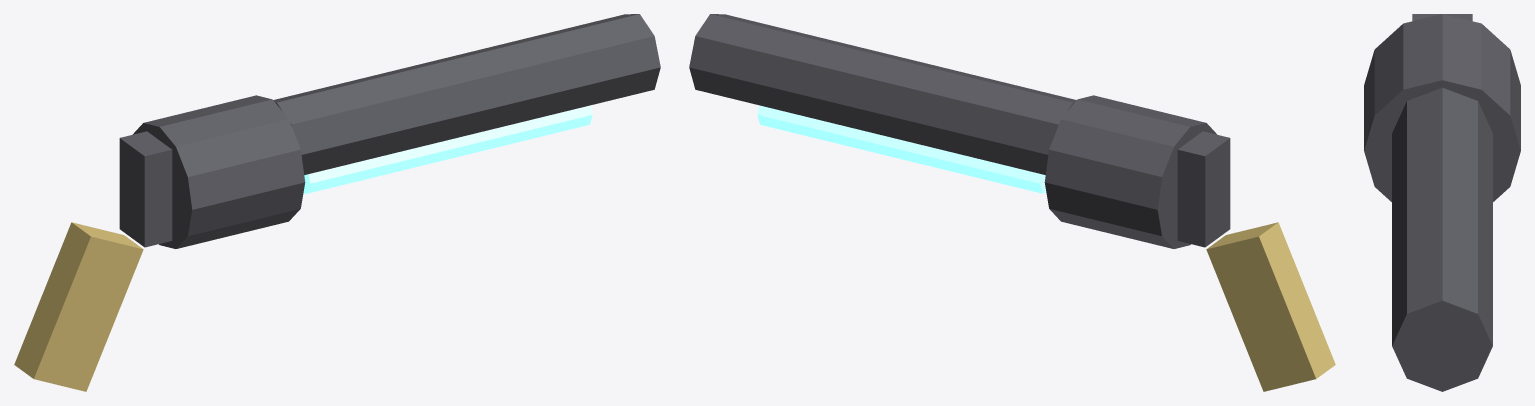
The model's file is AetherRevolver.glb.
The picture shows the model from 3 angles, left to right: view 1: azimuth 30°, elevation 25°; view 2: azimuth 150°, elevation 25°; view 3: azimuth 270°, elevation 25°; orthographic projection. The views are drawn at different scales.
Parts seen in each view (by area): view 1: GunFrame, AetherCrystals; view 2: GunFrame, AetherCrystals; view 3: GunFrame.
Boxes of the visible parts, x1,y1,x2,y2 form: GunFrame: (14,14,660,391); AetherCrystals: (303,105,592,193); GunFrame: (689,14,1335,391); AetherCrystals: (757,105,1046,193); GunFrame: (1364,14,1520,391).
Size of the model in its own units: 0.7631 by 0.2813 by 0.14.
